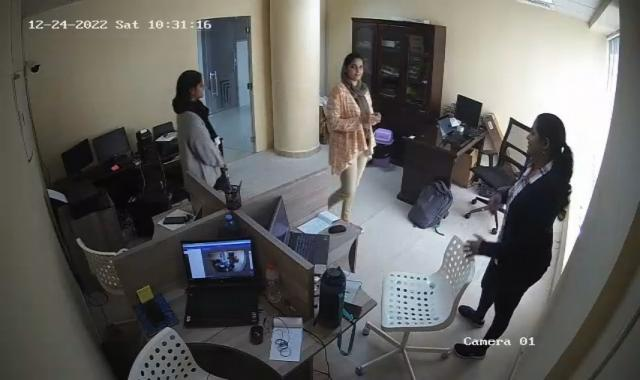no_hairnet: (522, 112, 570, 158), (175, 65, 207, 102), (340, 52, 365, 82)
